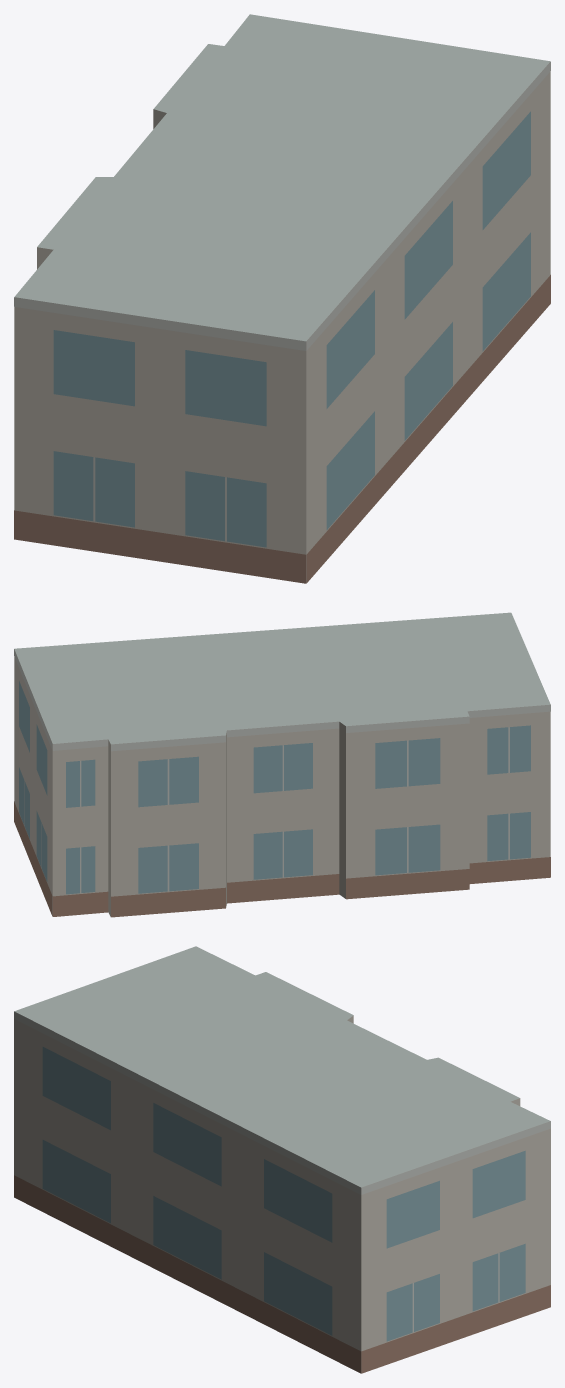
The model's file is survey-upis-32772488.glb.
3 renders of one model, top to bottom at view 1: azimuth 30°, elevation 25°; view 2: azimuth 150°, elevation 25°; view 3: azimuth 270°, elevation 25°, orthographic. The views are drawn at different scales.
Visible parts, largest first — view 1: survey-upis-32772488.tmp; view 2: survey-upis-32772488.tmp; view 3: survey-upis-32772488.tmp.
Boxes of the visible parts, left/top/right/bottom form: survey-upis-32772488.tmp: left=14, top=14, right=550, bottom=583; survey-upis-32772488.tmp: left=14, top=612, right=550, bottom=917; survey-upis-32772488.tmp: left=14, top=946, right=550, bottom=1373.
Size of the model in its own units: 16.98 by 6.1 by 15.95.
